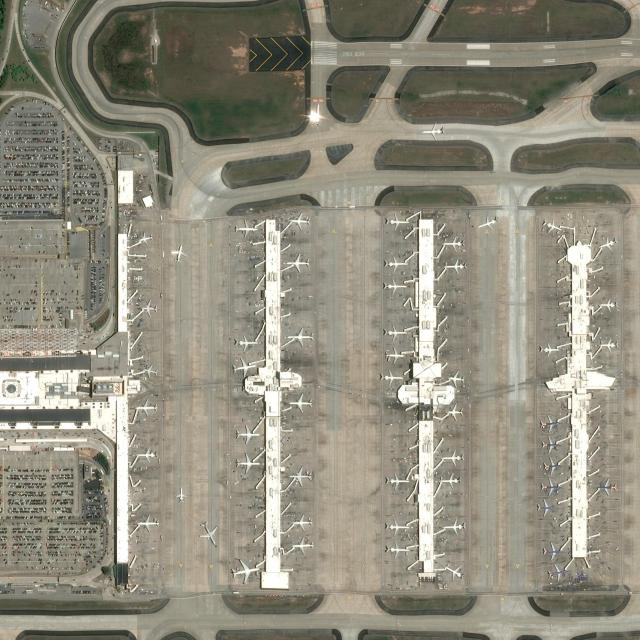aircraft: (228, 558, 260, 582), (232, 451, 263, 475), (381, 540, 418, 559), (197, 521, 220, 547), (286, 391, 314, 412), (233, 424, 262, 444), (287, 326, 315, 346), (288, 466, 314, 487), (230, 357, 255, 378), (540, 542, 566, 562), (284, 252, 310, 272), (382, 212, 410, 230), (443, 256, 467, 276), (378, 367, 403, 386), (382, 276, 408, 294), (384, 472, 410, 490), (134, 400, 160, 418), (233, 219, 259, 237), (596, 476, 618, 497), (292, 512, 314, 533), (384, 518, 411, 535), (290, 536, 314, 555), (135, 446, 159, 465), (442, 518, 467, 536), (382, 254, 408, 271), (382, 324, 408, 341), (534, 498, 556, 518), (233, 334, 260, 350), (444, 402, 466, 421), (436, 472, 462, 488), (476, 213, 499, 231), (538, 436, 561, 454), (539, 478, 562, 496), (441, 448, 464, 466), (136, 514, 159, 532), (596, 234, 618, 252), (596, 296, 618, 314), (538, 414, 560, 432), (289, 212, 311, 230), (420, 122, 444, 138), (384, 346, 404, 365), (541, 216, 562, 234), (541, 457, 562, 475), (545, 564, 570, 579), (442, 235, 464, 251), (447, 369, 465, 387), (140, 299, 158, 317), (598, 337, 618, 353), (538, 341, 558, 357), (443, 564, 463, 580), (171, 243, 186, 262), (136, 231, 154, 246), (142, 364, 158, 377), (174, 488, 187, 502)
